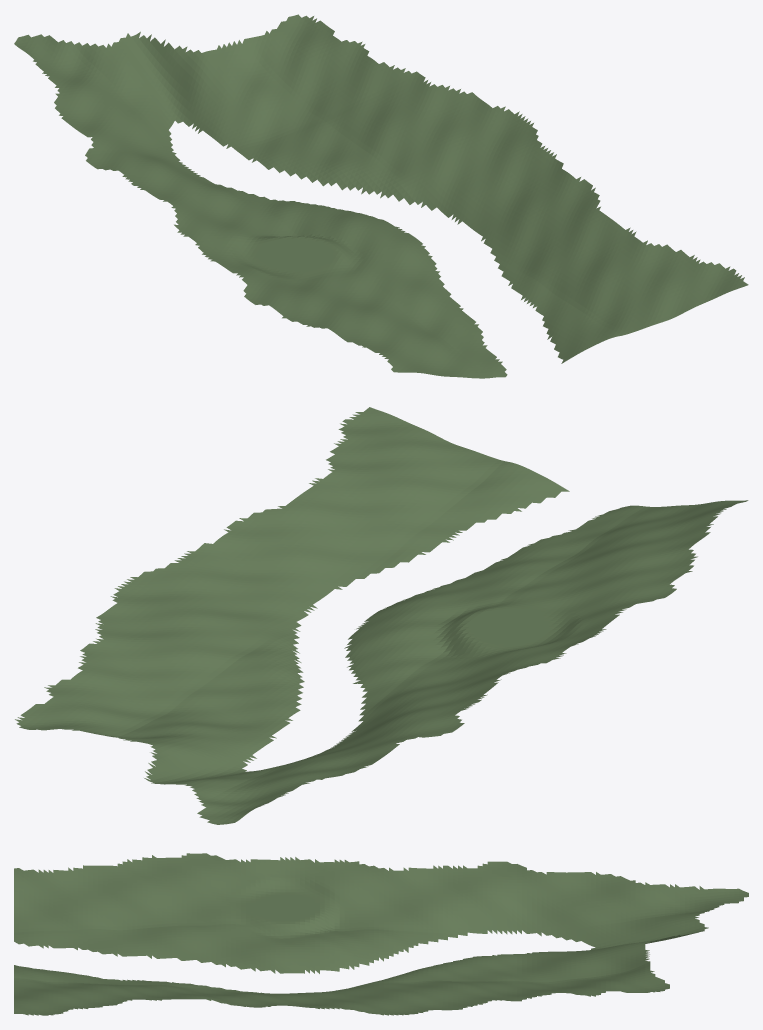
File: terrain--grassland.glb
The picture shows the model from 3 angles, top to bottom: view 1: azimuth 30°, elevation 25°; view 2: azimuth 150°, elevation 25°; view 3: azimuth 270°, elevation 25°; orthographic projection. The views are drawn at different scales.
Visible parts, largest first — view 1: terrain; view 2: terrain; view 3: terrain.
Part boxes in pixels (<box>): terrain: <box>14,14,748,378</box>; terrain: <box>15,407,748,824</box>; terrain: <box>14,853,748,1015</box>.
Bounding box in the file's own units: 87.75 × 7.97 × 168.
